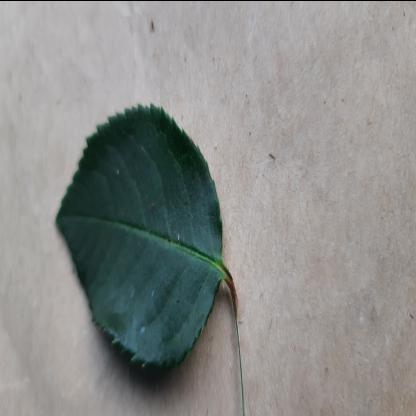normal: (52, 100, 224, 370)
